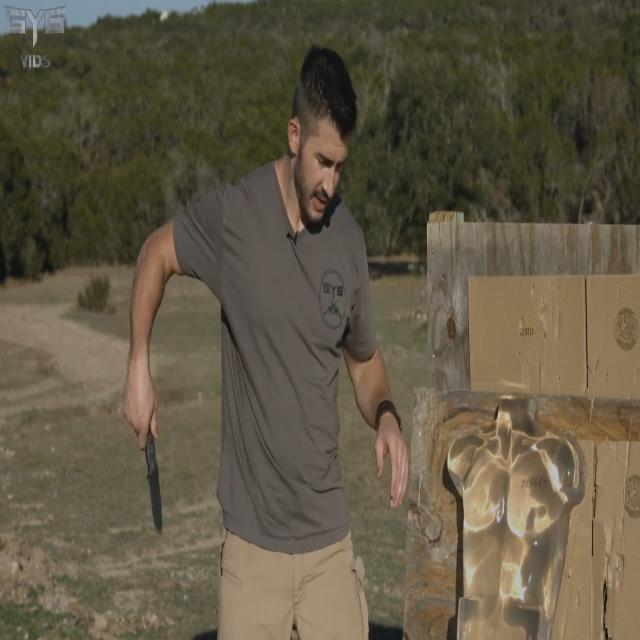knife: (145, 433, 166, 541)
